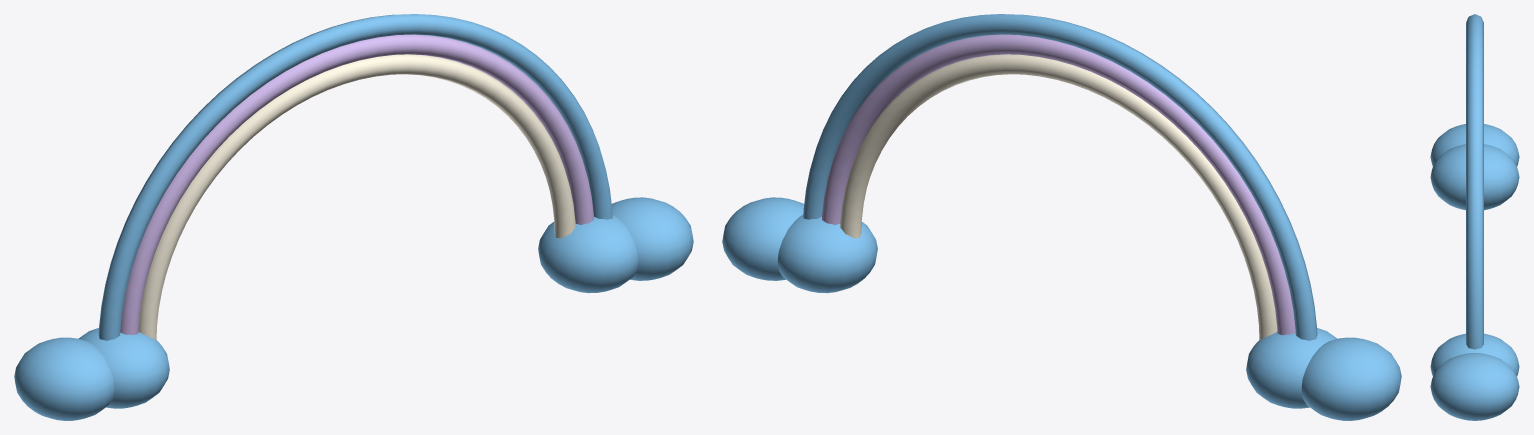
File: st_dream_gate.glb
3 views of the same model, side by side, from view 1: azimuth 30°, elevation 25°; view 2: azimuth 150°, elevation 25°; view 3: azimuth 270°, elevation 25° (orthographic). The views are drawn at different scales.
Parts seen in each view (by area): view 1: Rainbow_Gate; view 2: Rainbow_Gate; view 3: Rainbow_Gate.
Boxes of the visible parts, box(x1,y1,x2,y2) form: Rainbow_Gate: box(14, 14, 693, 420); Rainbow_Gate: box(722, 14, 1401, 420); Rainbow_Gate: box(1430, 14, 1519, 420).
Size of the model in its own units: 3.96 by 1.84 by 0.56.
